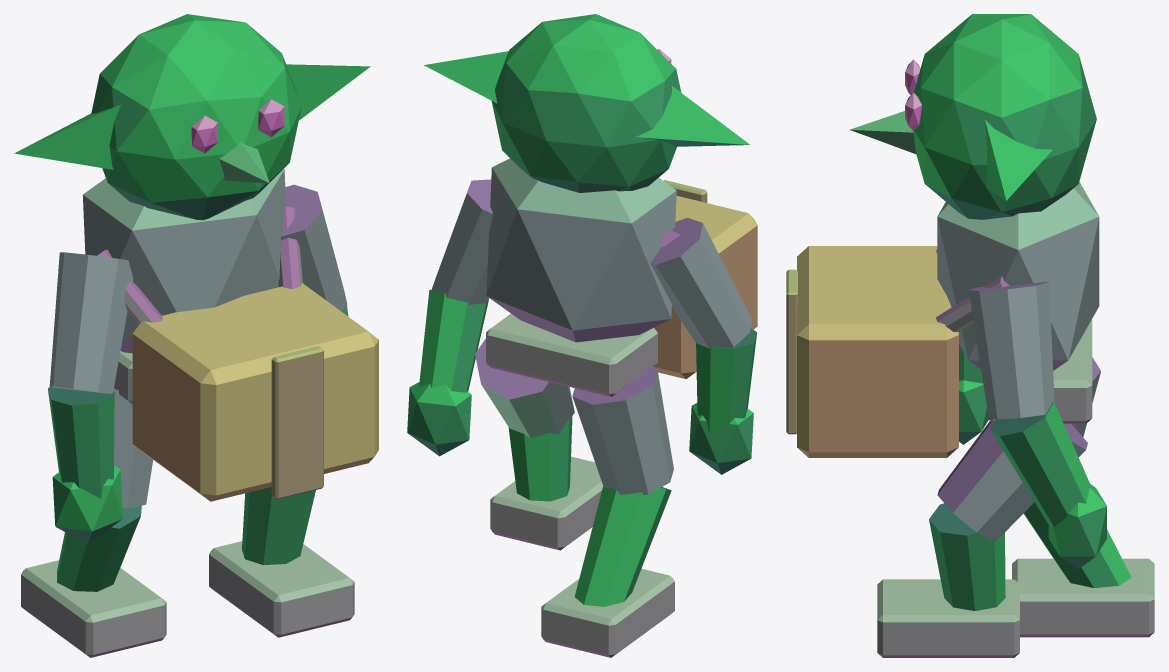
Rendered from creature_goblin_tribute_bearer_down_b_v01.glb.
3 renders of one model, left to right at view 1: azimuth 30°, elevation 25°; view 2: azimuth 150°, elevation 25°; view 3: azimuth 270°, elevation 25°, orthographic. The views are drawn at different scales.
Visible parts, largest first — view 1: GEO_creature_goblin_tribute_bearer_down_b_v01; view 2: GEO_creature_goblin_tribute_bearer_down_b_v01; view 3: GEO_creature_goblin_tribute_bearer_down_b_v01.
Boxes of the visible parts, bbox=[...] form: GEO_creature_goblin_tribute_bearer_down_b_v01: bbox=[14, 14, 378, 657]; GEO_creature_goblin_tribute_bearer_down_b_v01: bbox=[407, 14, 757, 657]; GEO_creature_goblin_tribute_bearer_down_b_v01: bbox=[786, 14, 1154, 657].
Size of the model in its own units: 0.88 by 1.46 by 0.7739.
